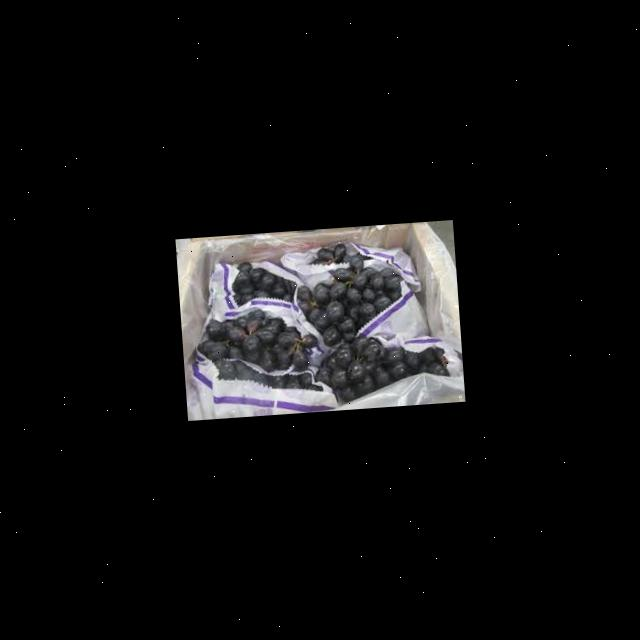grape: (292, 238, 406, 348)
